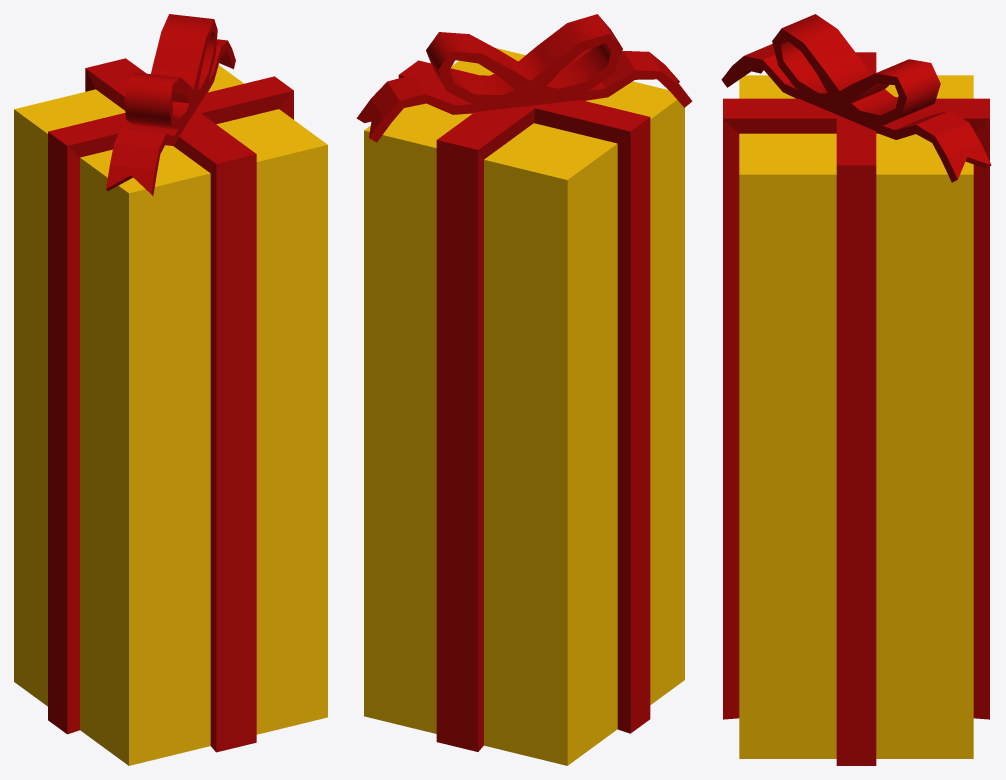
The model's file is Presents7.fbx.
3 views of the same model, side by side, from view 1: azimuth 30°, elevation 25°; view 2: azimuth 150°, elevation 25°; view 3: azimuth 270°, elevation 25° (orthographic). The views are drawn at different scales.
Visible parts, largest first — view 1: Present7; view 2: Present7; view 3: Present7.
Boxes of the visible parts, x1,y1,x2,y2 form: Present7: (14,14,327,765); Present7: (356,14,692,765); Present7: (721,14,991,765).
Bounding box in the file's own units: 46.08 × 125 × 46.08.
